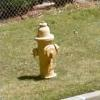a fire hydrant: (33, 22, 60, 79)
